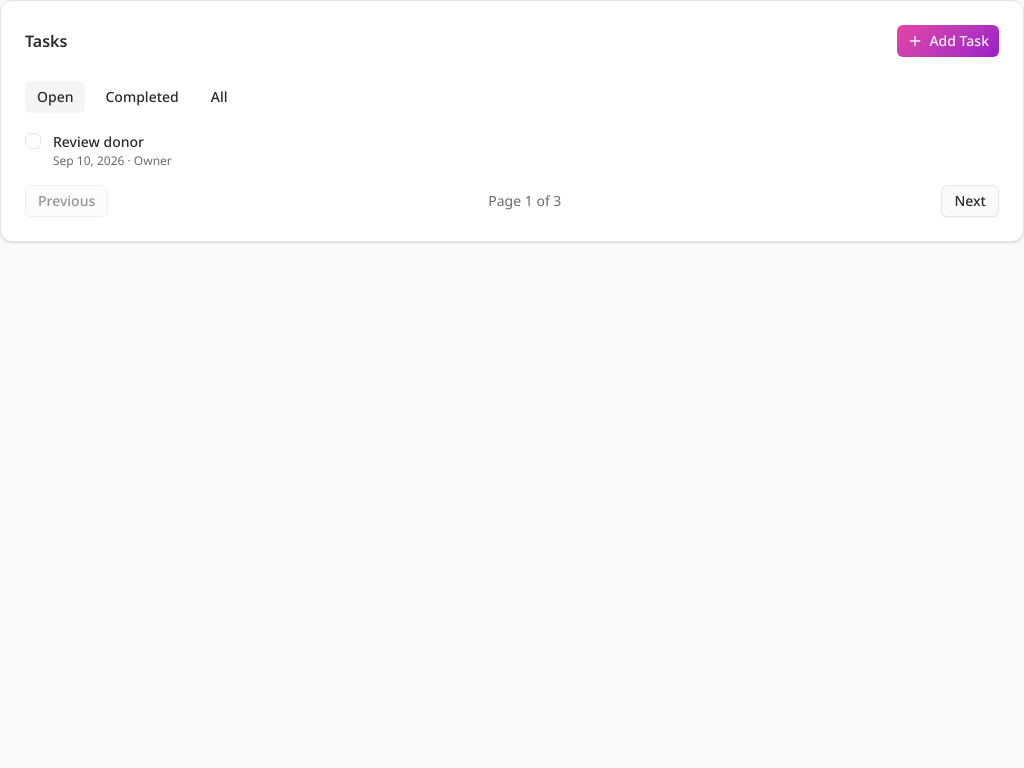
Test case: EntityTasksSection › shows read-only details when the user cannot manage the task
The width and height of the screenshot is (1024, 768).
Click the button "Review donor" at [98, 142], box [53, 132, 144, 152]
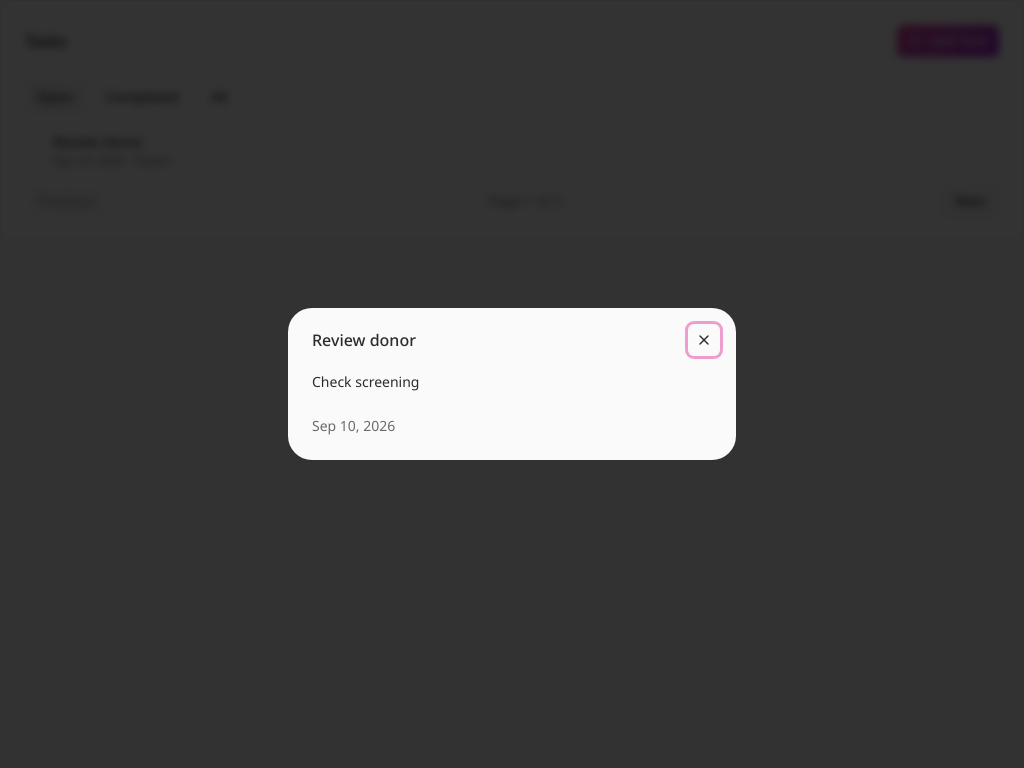
Now the text "Check screening" is shown, box [312, 372, 420, 391]
